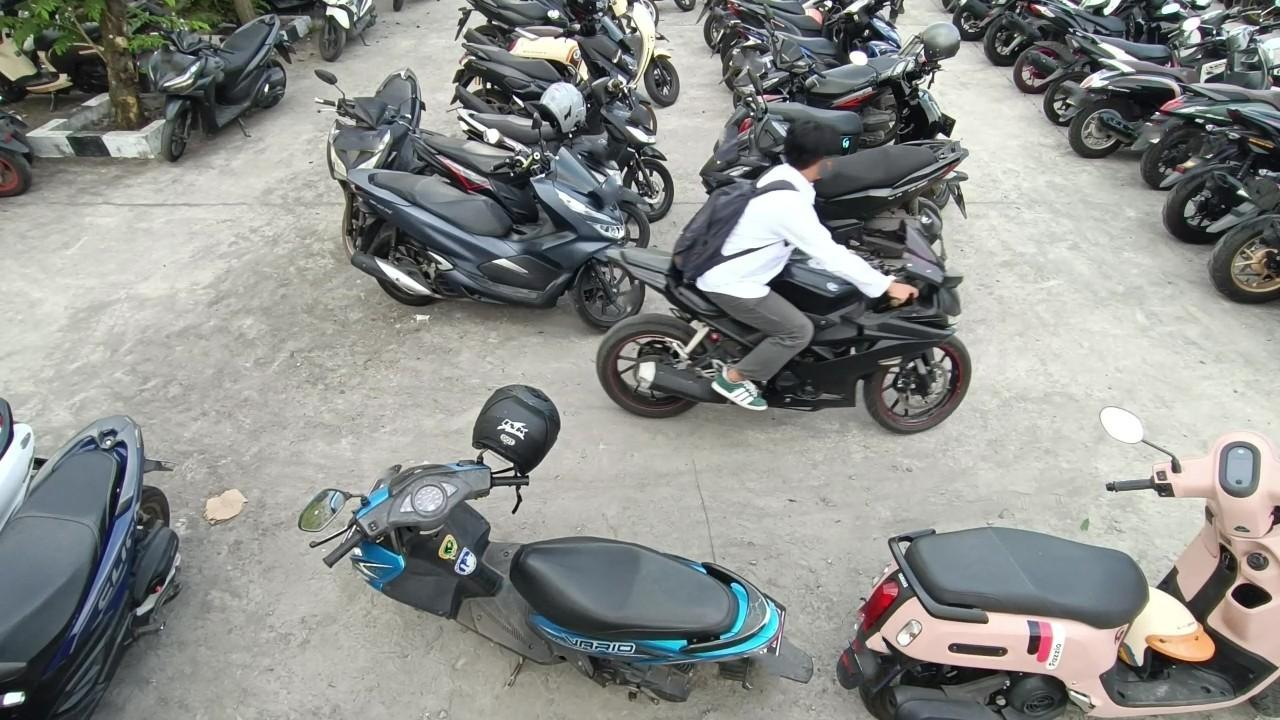motorcycle: (290, 381, 815, 720), (837, 406, 1280, 720), (582, 214, 982, 439), (0, 410, 187, 720), (336, 146, 648, 329), (703, 71, 974, 259), (409, 82, 651, 269), (453, 56, 677, 219), (716, 23, 972, 154), (1071, 1, 1280, 155), (449, 7, 665, 141), (1044, 0, 1256, 124), (735, 2, 931, 135), (314, 69, 430, 258), (147, 14, 291, 165), (513, 0, 682, 109), (1161, 108, 1280, 250), (1143, 75, 1280, 191), (1015, 0, 1170, 97), (1210, 161, 1280, 312), (309, 0, 384, 61)
